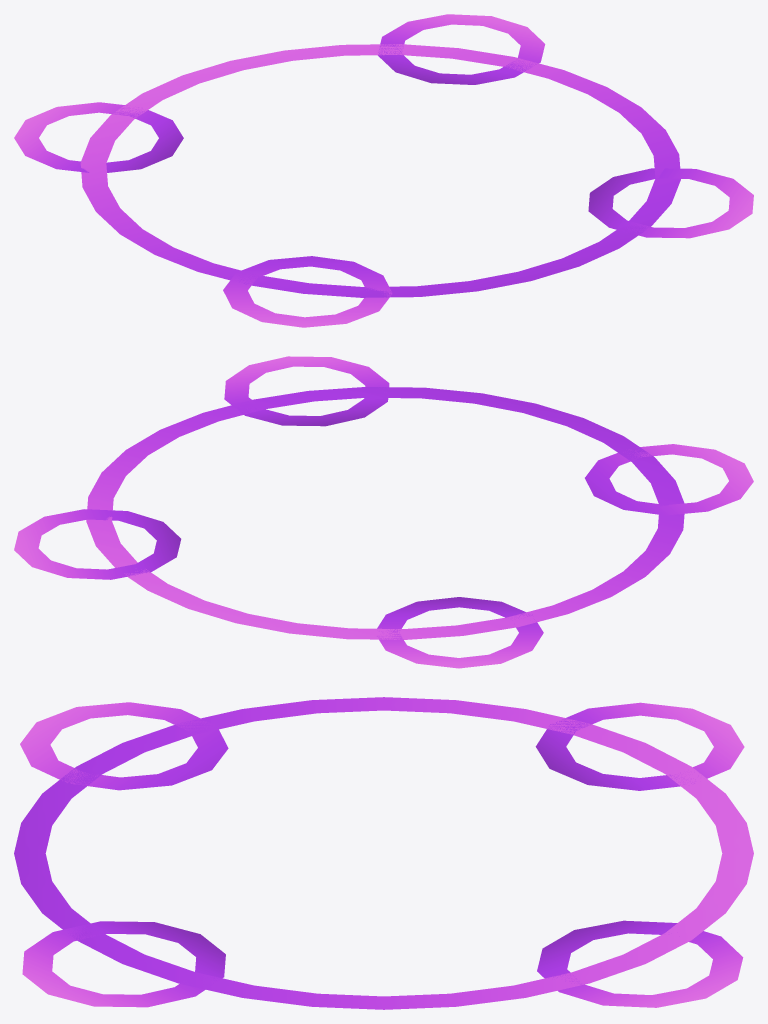
The model's file is undead_floor_sign_1.fbx.
The picture shows the model from 3 angles, top to bottom: view 1: azimuth 30°, elevation 25°; view 2: azimuth 150°, elevation 25°; view 3: azimuth 270°, elevation 25°; orthographic projection. The views are drawn at different scales.
Visible parts, largest first — view 1: undead_floor_sign_1; view 2: undead_floor_sign_1; view 3: undead_floor_sign_1.
Part boxes in pixels (x1,y1,x2,y2): undead_floor_sign_1: (14, 14, 753, 327); undead_floor_sign_1: (14, 356, 753, 668); undead_floor_sign_1: (14, 697, 753, 1009).
Size of the model in its own units: 4.08 by 1.19e-13 by 4.08.
